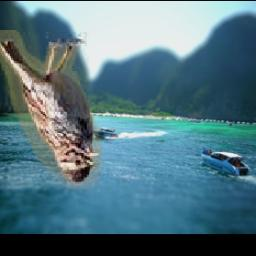Sparrow: (0, 30, 102, 189)
